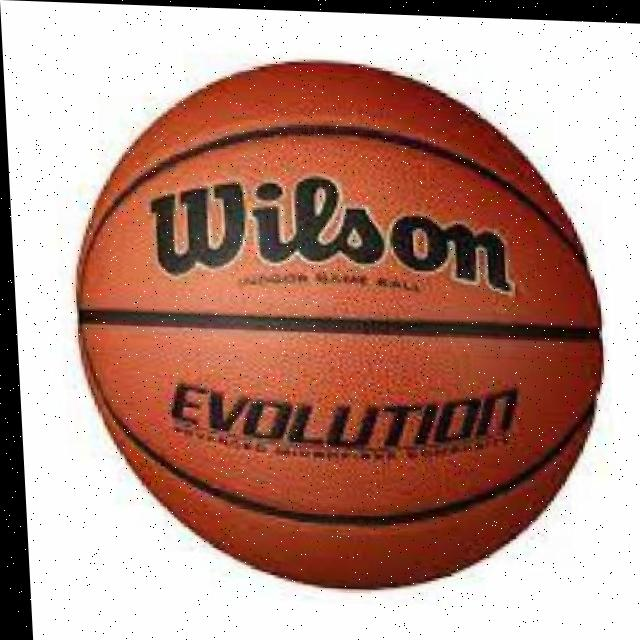Basketball: (64, 54, 616, 597)
